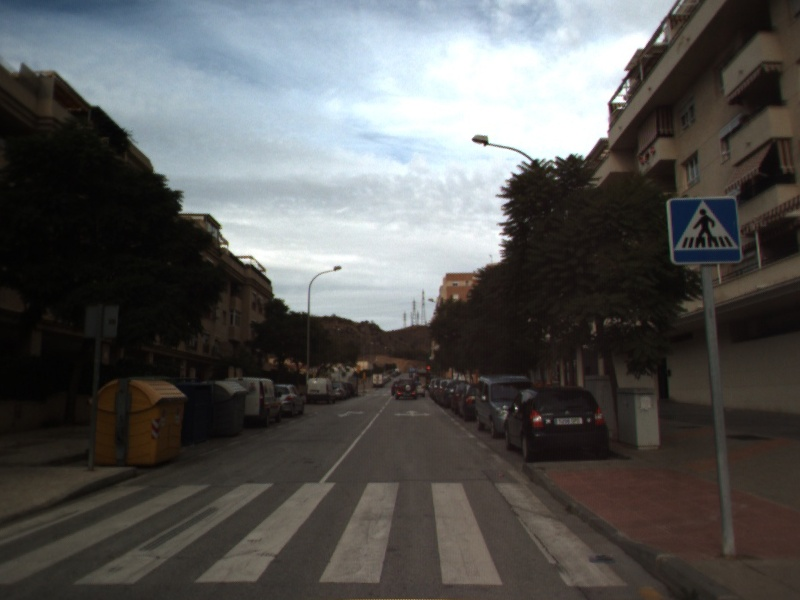STRAIGHT_LEFT_RIGHT: (392, 408, 433, 419)
